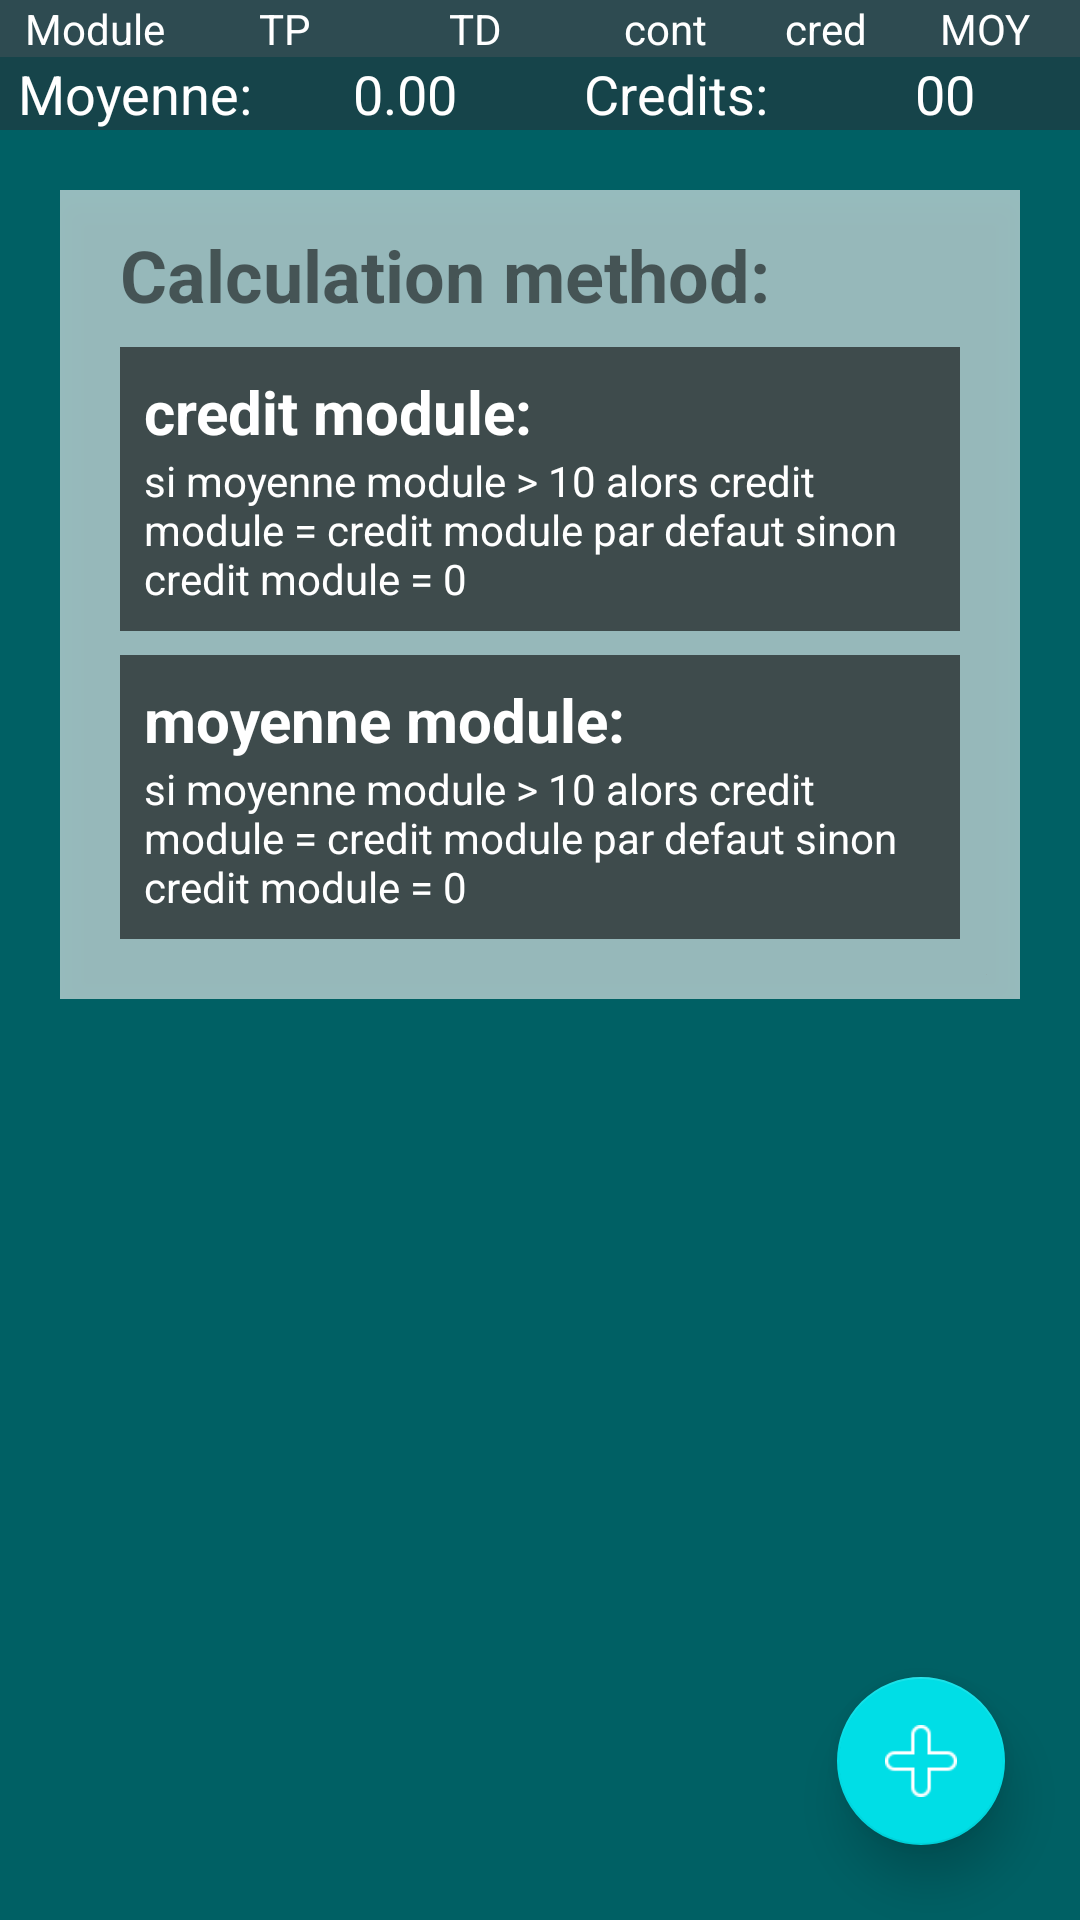

Named icons in this screenshot (1080×1920) and their bounding boxes, (x1, y1, x2, y2):
add: (837, 1677, 1005, 1845)
